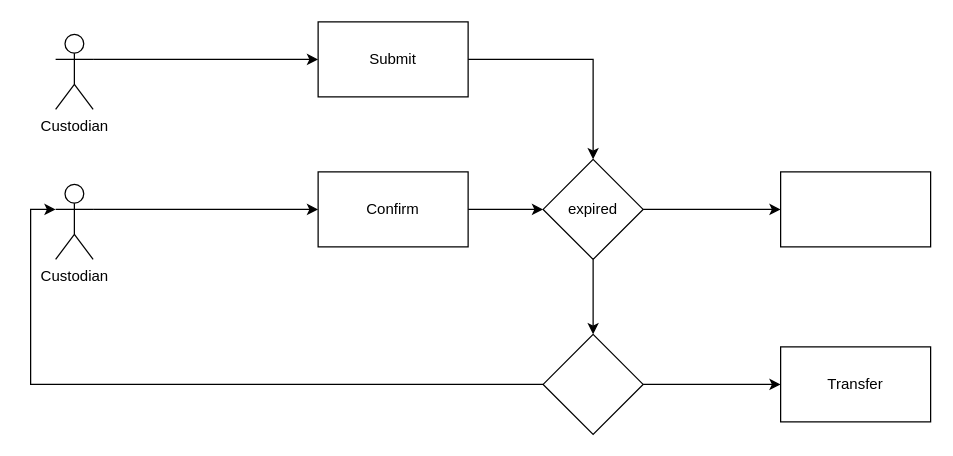
This 953x456 diagram has some shape labels left out. The centre of each missing label's shape, as x and y in pixels:
enough signatures: the point at 592,383
Expire: the point at 855,209
